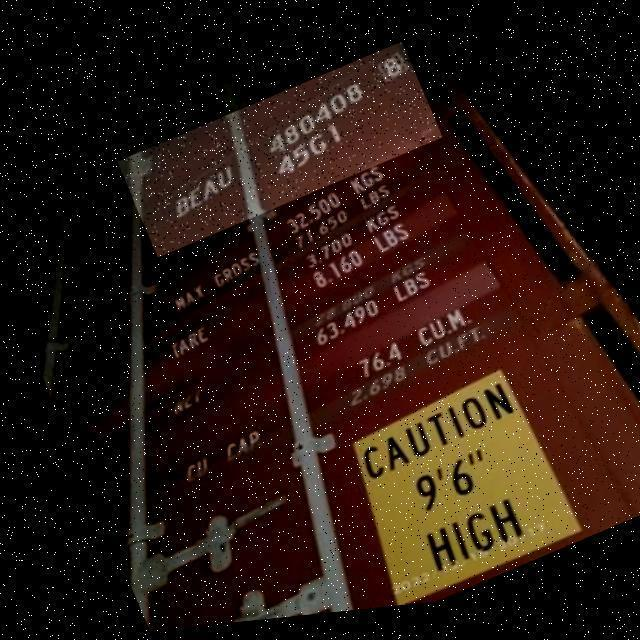container_number_h: (106, 47, 446, 262)
